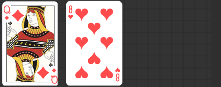10H: (67, 4, 74, 20)
